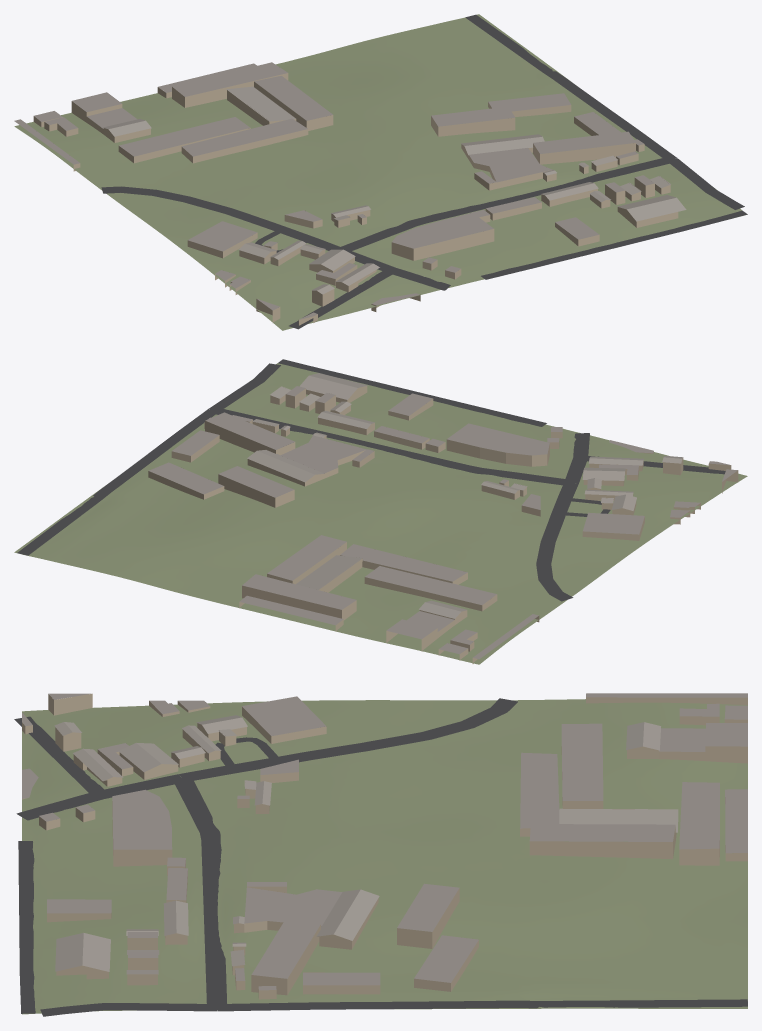
The picture shows the model from 3 angles, top to bottom: view 1: azimuth 30°, elevation 25°; view 2: azimuth 150°, elevation 25°; view 3: azimuth 270°, elevation 25°; orthographic projection. The views are drawn at different scales.
Parts seen in each view (by area): view 1: ground, roofs, walls, road, sheetRoofs; view 2: ground, roofs, walls, road, sheetRoofs; view 3: ground, roofs, walls, road, sheetRoofs.
Boxes of the visible parts, x1=… form: ground: x1=14, y1=14, x2=745, y2=330; roofs: x1=14, y1=62, x2=654, y2=319; walls: x1=33, y1=73, x2=678, y2=325; road: x1=101, y1=14, x2=747, y2=329; sheetRoofs: x1=103, y1=86, x2=686, y2=294; ground: x1=14, y1=363, x2=747, y2=664; roofs: x1=149, y1=386, x2=737, y2=659; walls: x1=148, y1=386, x2=738, y2=663; road: x1=17, y1=359, x2=725, y2=601; sheetRoofs: x1=247, y1=373, x2=683, y2=618; ground: x1=22, y1=699, x2=747, y2=1014; roofs: x1=22, y1=693, x2=747, y2=990; walls: x1=22, y1=693, x2=747, y2=999; road: x1=14, y1=698, x2=747, y2=1016; sheetRoofs: x1=54, y1=715, x2=678, y2=974.
Bounding box in the file's own units: 254 × 13.01 × 253.
